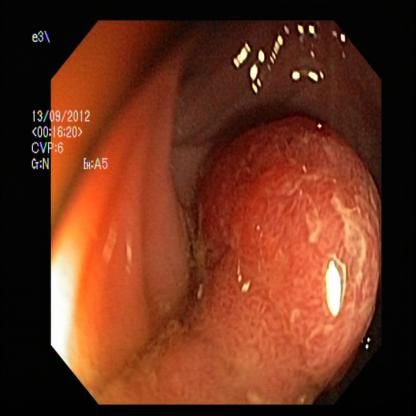Labels: (29, 103, 117, 185), (21, 15, 60, 52)
Polyps: (211, 134, 379, 377)
